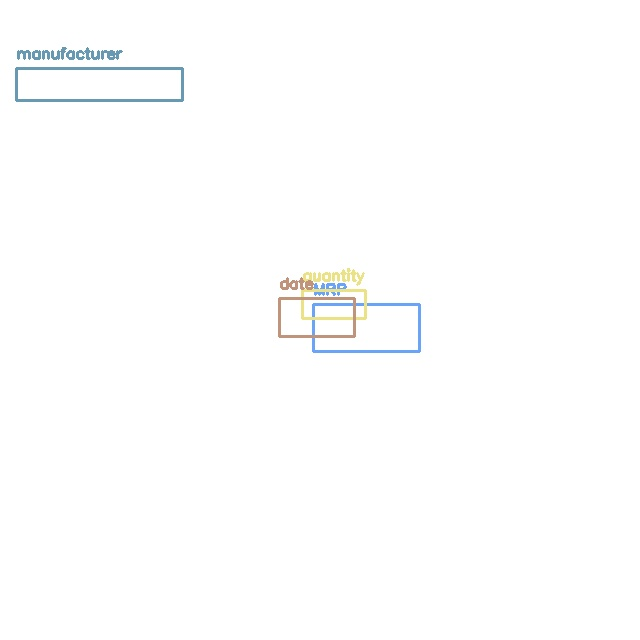MRP: (313, 304, 419, 351)
date: (279, 298, 354, 336)
manufacturer: (16, 68, 182, 100)
quantity: (302, 290, 365, 318)
